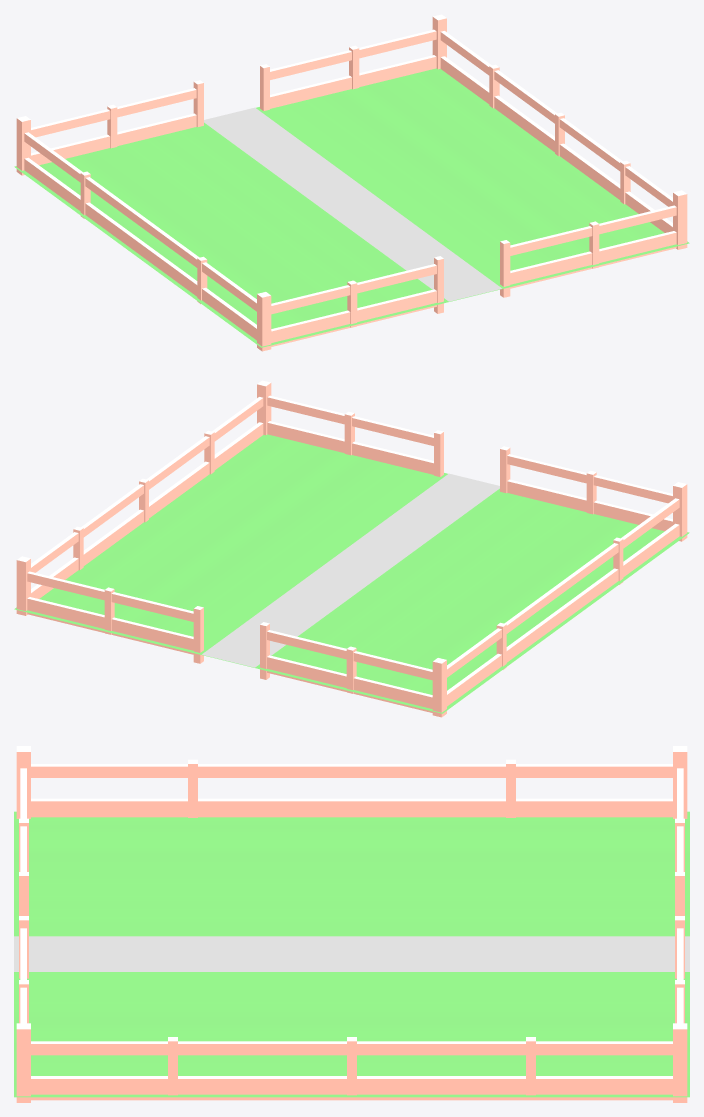
The model's file is tile_for_home_1x1.002.glb.
3 renders of one model, top to bottom at view 1: azimuth 30°, elevation 25°; view 2: azimuth 150°, elevation 25°; view 3: azimuth 270°, elevation 25°, orthographic. The views are drawn at different scales.
Visible parts, largest first — view 1: tile_for_home_1x1.002(Clone); view 2: tile_for_home_1x1.002(Clone); view 3: tile_for_home_1x1.002(Clone).
Boxes of the visible parts, x1,y1,x2,y2 form: tile_for_home_1x1.002(Clone): [14, 14, 689, 351]; tile_for_home_1x1.002(Clone): [14, 380, 689, 717]; tile_for_home_1x1.002(Clone): [14, 746, 689, 1102].
Bounding box in the file's own units: 8 × 1.07 × 8.
Materials: 1 (1 with a texture image).
